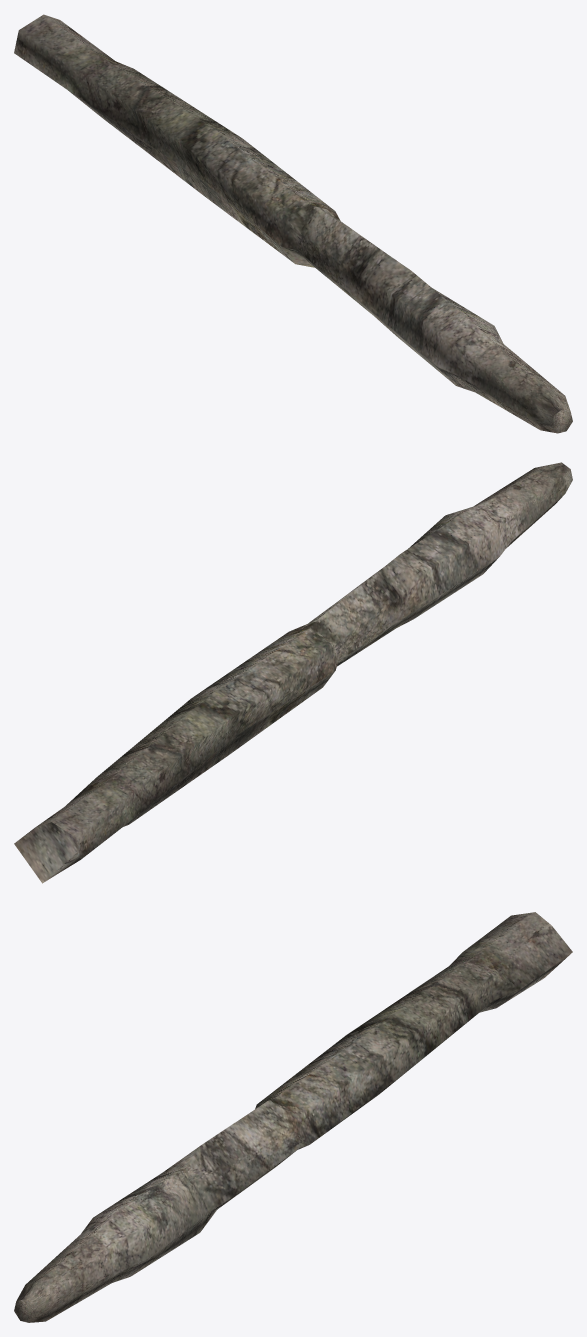
Rendered from tdr_h_stag_e.obj.
3 renders of one model, top to bottom at view 1: azimuth 30°, elevation 25°; view 2: azimuth 150°, elevation 25°; view 3: azimuth 330°, elevation 25°, orthographic.
Parts seen in each view (by area): view 1: tdr_h_stag_e; view 2: tdr_h_stag_e; view 3: tdr_h_stag_e.
Part boxes in pixels (box(x1,y1,x2,y2)): tdr_h_stag_e: box(14, 14, 572, 433); tdr_h_stag_e: box(14, 462, 572, 883); tdr_h_stag_e: box(14, 912, 572, 1322).
Bounding box in the file's own units: 187 × 199 × 2438.
Materials: 1 (1 with a texture image).
